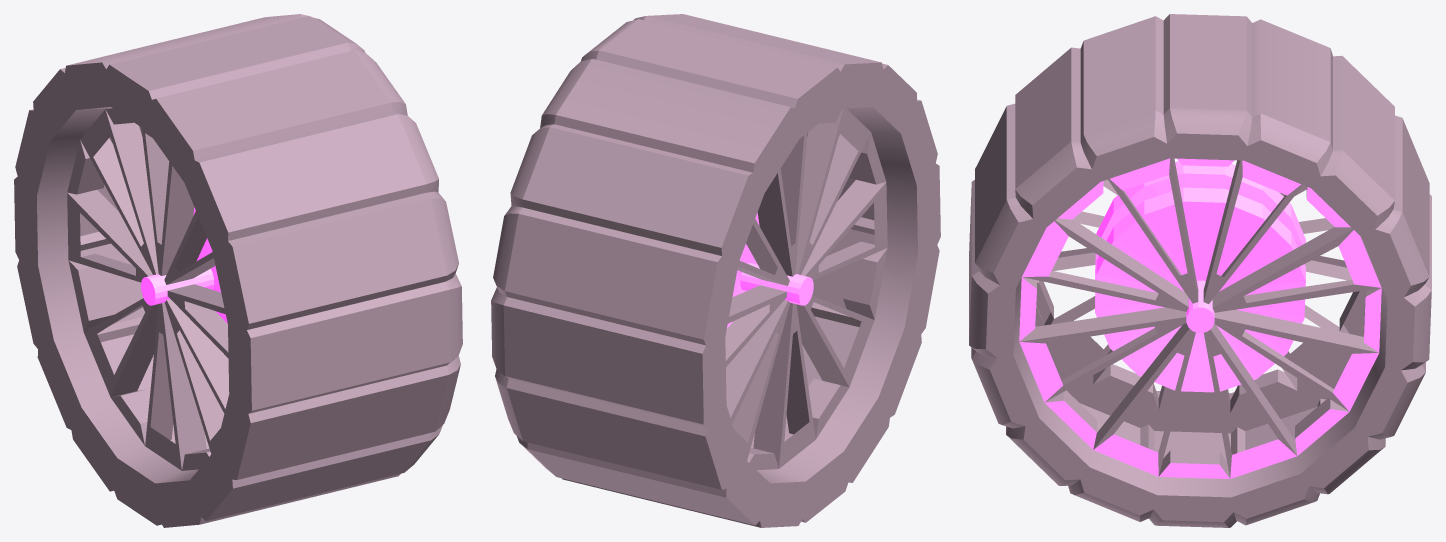
Rendered from prednekoleso.fbx.
The picture shows the model from 3 angles, left to right: view 1: azimuth 30°, elevation 25°; view 2: azimuth 150°, elevation 25°; view 3: azimuth 270°, elevation 25°; orthographic projection. The views are drawn at different scales.
Visible parts, largest first — view 1: Plane.048; view 2: Plane.048; view 3: Plane.048.
Boxes of the visible parts, bbox=[...] form: Plane.048: bbox=[14, 14, 462, 527]; Plane.048: bbox=[491, 14, 940, 527]; Plane.048: bbox=[969, 14, 1431, 527].
Size of the model in its own units: 51.25 by 96.15 by 96.15.
